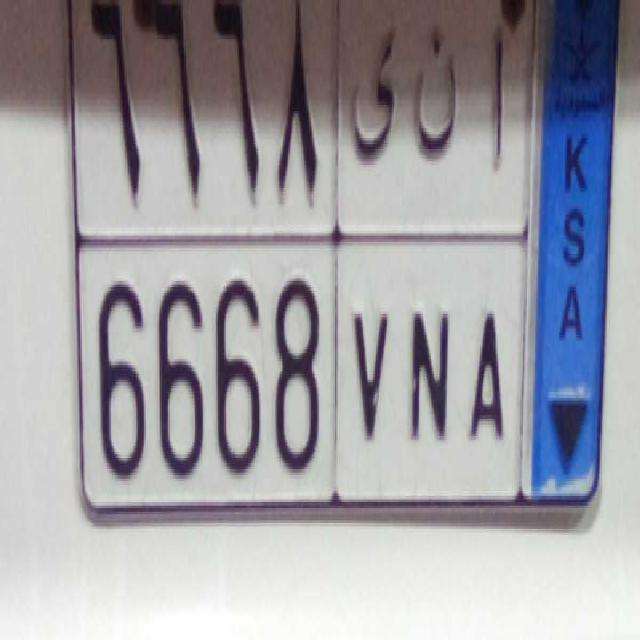license_plate: (84, 228, 508, 507)
